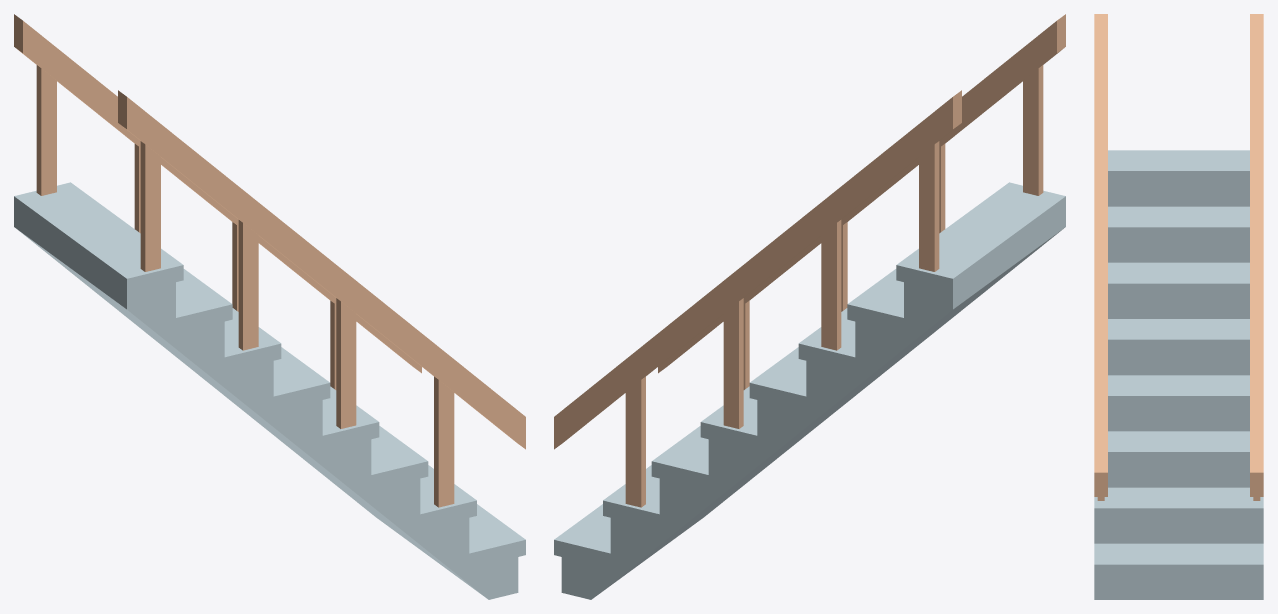
Rendered from stairs_stone_handrail.glb.
The picture shows the model from 3 angles, left to right: view 1: azimuth 30°, elevation 25°; view 2: azimuth 150°, elevation 25°; view 3: azimuth 270°, elevation 25°; orthographic projection. The views are drawn at different scales.
Parts seen in each view (by area): view 1: stairsStoneHandrail, rail; view 2: stairsStoneHandrail, rail; view 3: stairsStoneHandrail, rail.
Part boxes in pixels (bbox=[...]): stairsStoneHandrail: bbox=[14, 182, 525, 599]; rail: bbox=[14, 14, 525, 507]; stairsStoneHandrail: bbox=[554, 182, 1065, 599]; rail: bbox=[554, 14, 1065, 507]; stairsStoneHandrail: bbox=[1094, 150, 1263, 599]; rail: bbox=[1094, 14, 1263, 500].
Size of the model in its own units: 1.02 by 1.45 by 0.5.
